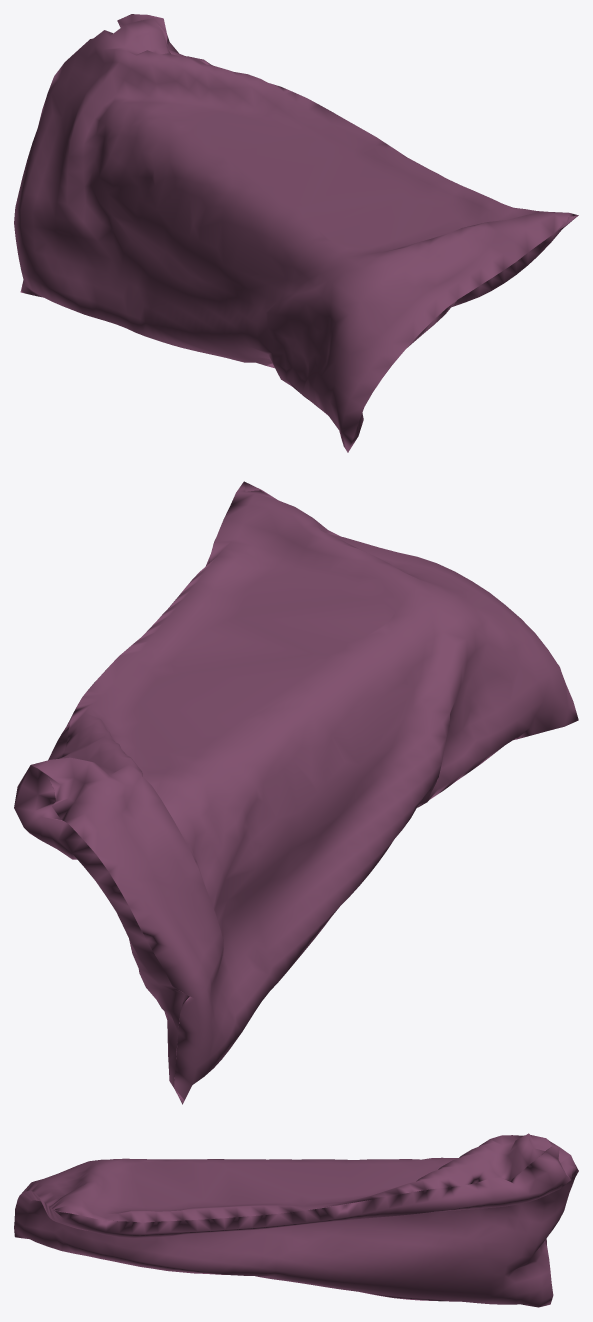
File: BedA_SheetC.FBX
The picture shows the model from 3 angles, top to bottom: view 1: azimuth 30°, elevation 25°; view 2: azimuth 150°, elevation 25°; view 3: azimuth 270°, elevation 25°; orthographic projection. The views are drawn at different scales.
Visible parts, largest first — view 1: SheetC; view 2: SheetC; view 3: SheetC.
Part boxes in pixels (box(x1,y1,x2,y2)): SheetC: box(14, 14, 578, 452); SheetC: box(14, 481, 578, 1104); SheetC: box(14, 1133, 578, 1307).
Bounding box in the file's own units: 26.74 × 24.7 × 60.97.
